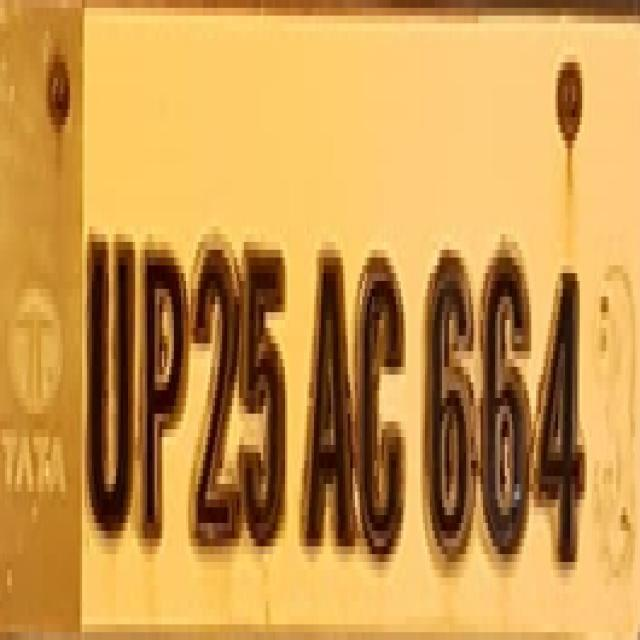4: (535, 267, 591, 592)
5: (240, 232, 292, 562)
6: (476, 245, 536, 554), (422, 249, 478, 566)
A: (296, 247, 358, 580)
C: (352, 245, 416, 574)
P: (136, 222, 194, 552)
U: (79, 212, 138, 556)
